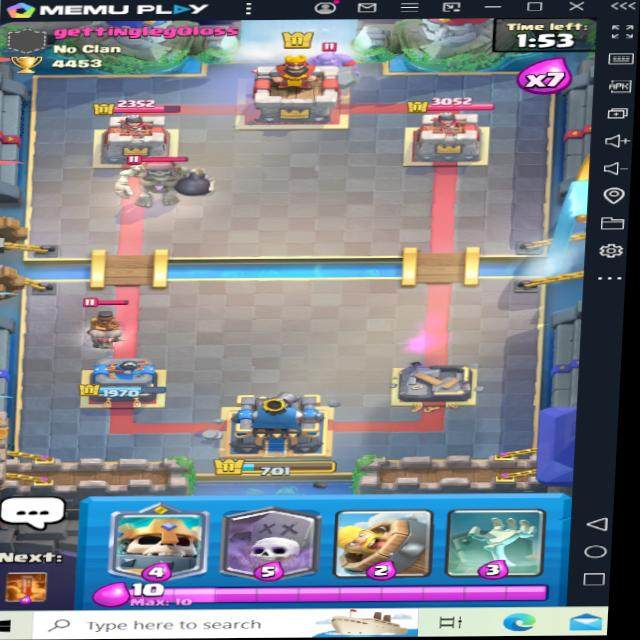Bowler: (296, 43, 366, 86)
Giantskeleton: (113, 146, 219, 208)
Ramrider: (76, 294, 144, 349)
